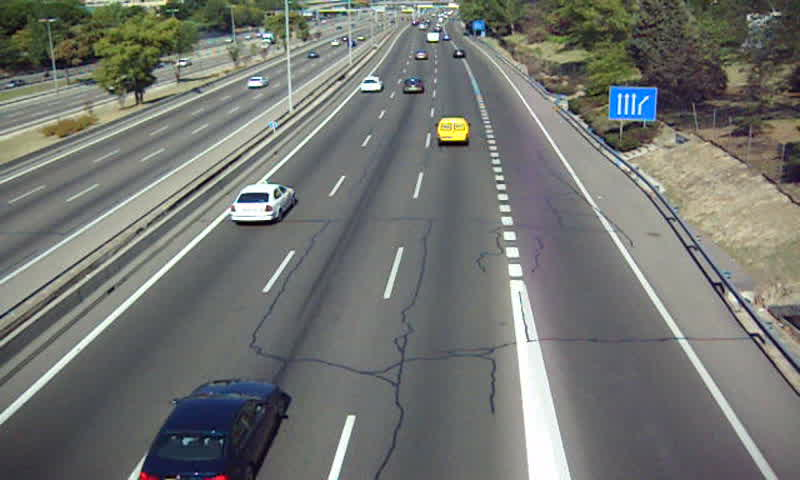car: (139, 379, 283, 480), (227, 183, 294, 223), (358, 76, 382, 94), (402, 77, 425, 95), (415, 50, 429, 63)
van: (437, 117, 470, 146)
